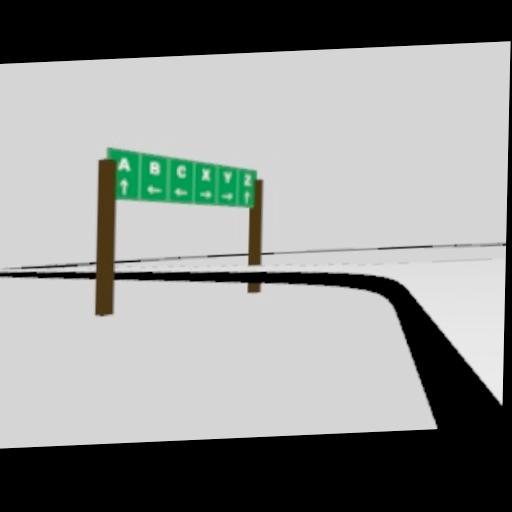A: (117, 156, 129, 171)
B: (148, 160, 160, 174)
C: (175, 164, 185, 178)
Right: (198, 188, 213, 199), (172, 186, 187, 196), (146, 183, 161, 193), (220, 191, 233, 200)
Straight: (118, 177, 127, 194), (243, 190, 250, 202)
X: (200, 166, 210, 180)
Y: (222, 171, 231, 183)
Z: (243, 173, 252, 185)
